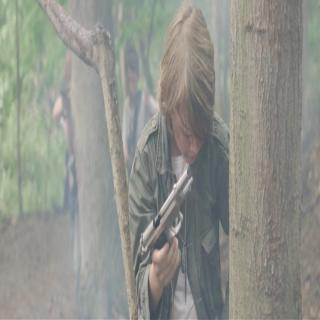gun: (138, 169, 196, 284)
